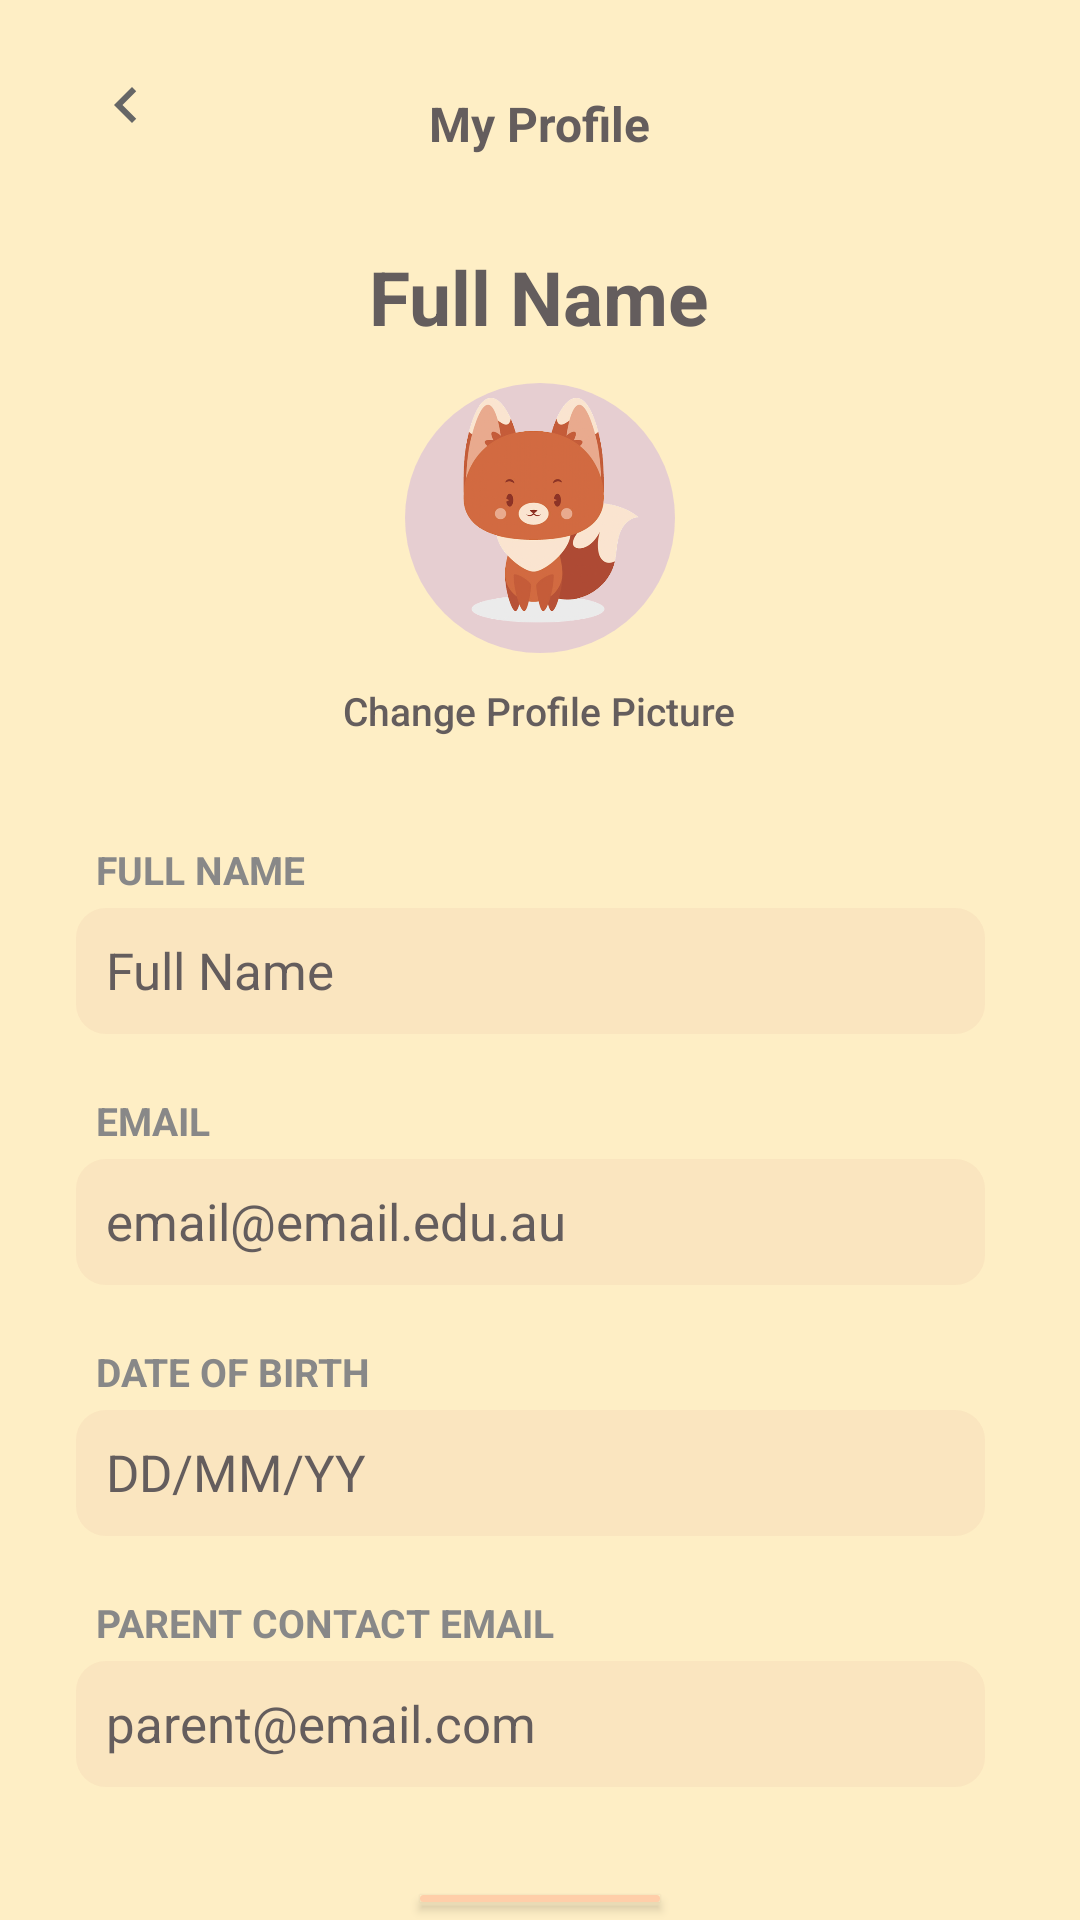

Where icons sit on this 1080px x 1920px app screen, as (x1, y1, x2, y2):
fox: (423, 383, 675, 638)
left: (114, 87, 136, 123)
